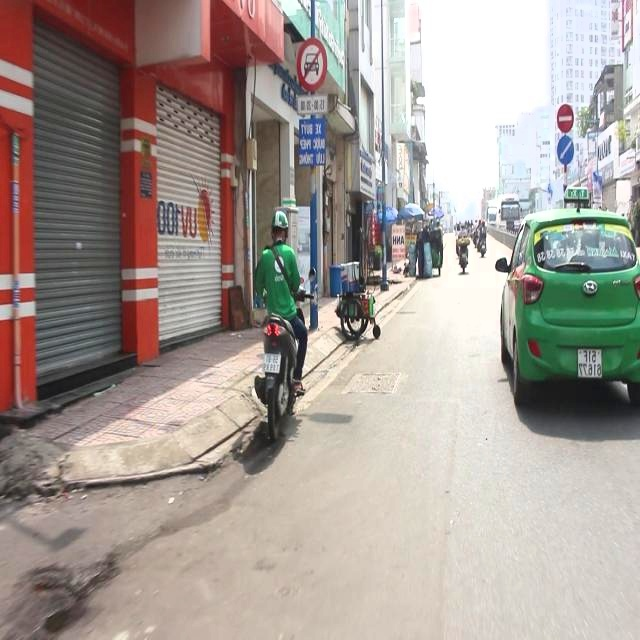I.407a: (554, 99, 576, 137)
P.103a: (294, 34, 330, 97)
